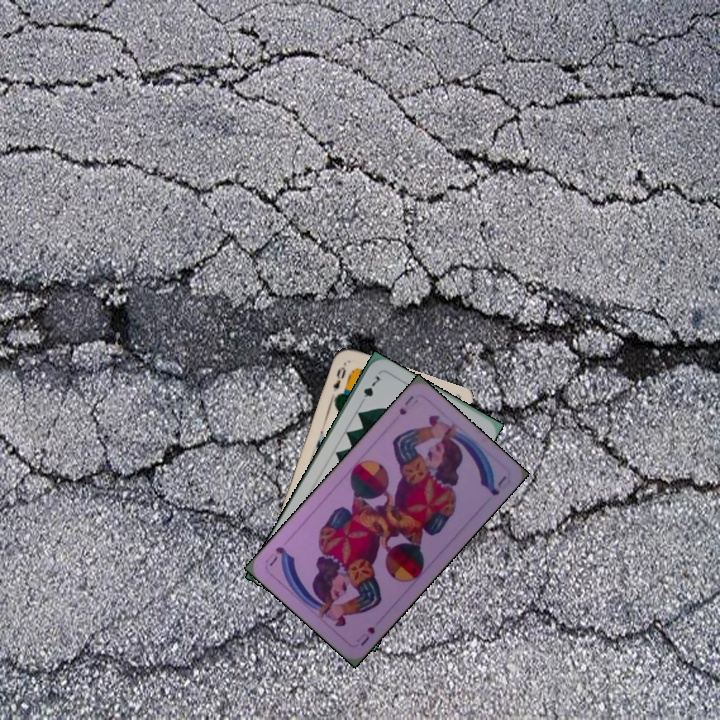EO: (329, 363, 349, 394)
G7: (356, 371, 383, 407)
SU: (352, 622, 378, 649), (395, 392, 416, 418)
